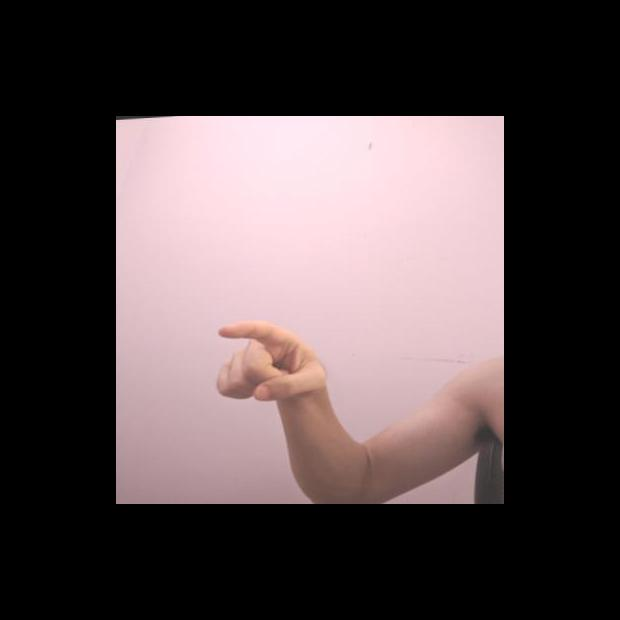Y: (208, 315, 335, 408)
